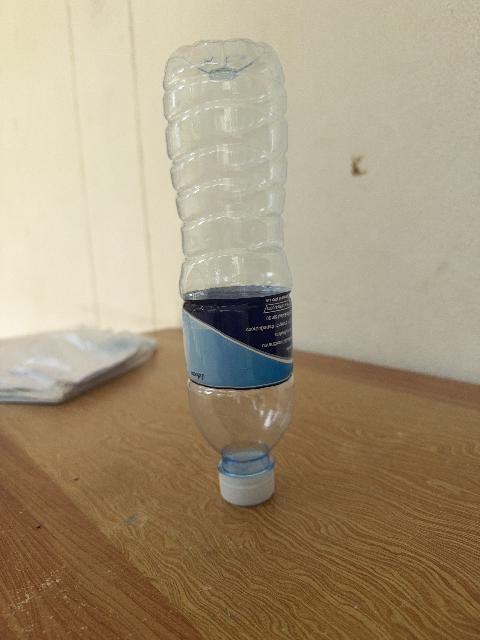bottle: (164, 40, 294, 505)
